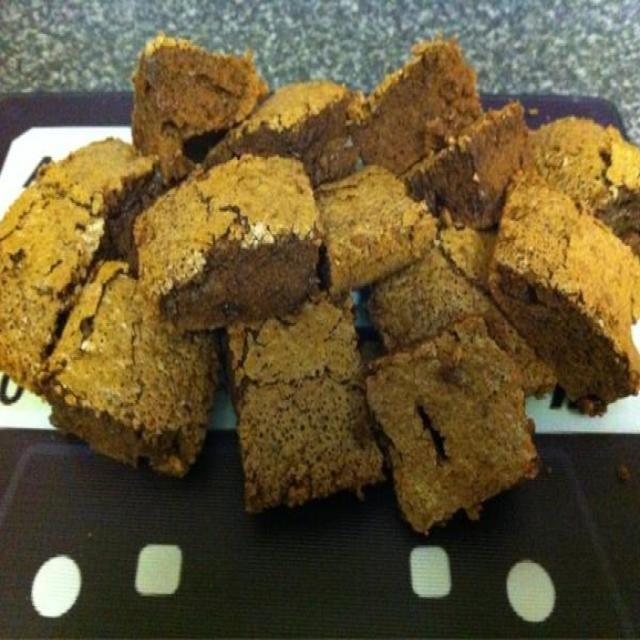蛋糕甜品: (10, 28, 623, 541)
